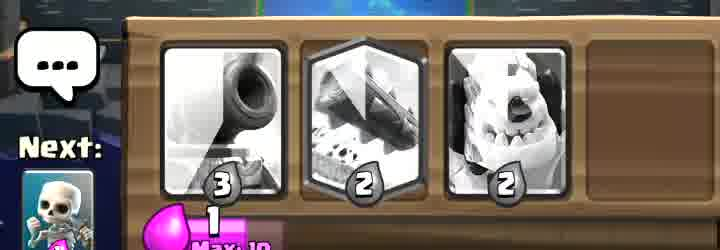ice-golem: (446, 51, 558, 198)
skeleton: (24, 171, 93, 250)
